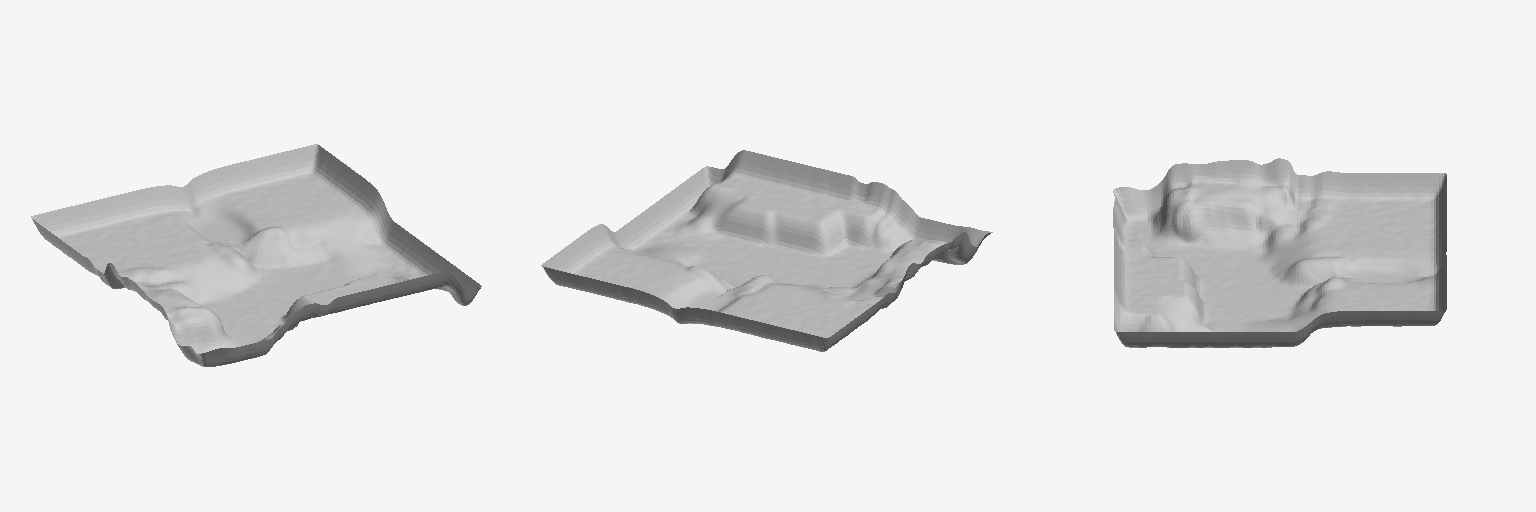
Rendered from forest.obj.
3 views of the same model, side by side, from view 1: azimuth 30°, elevation 25°; view 2: azimuth 150°, elevation 25°; view 3: azimuth 270°, elevation 25° (orthographic).
Visible parts, largest first — view 1: ForrestTerrain_Plane.003; view 2: ForrestTerrain_Plane.003; view 3: ForrestTerrain_Plane.003.
Part boxes in pixels (bbox=[...]): ForrestTerrain_Plane.003: bbox=[31, 144, 481, 366]; ForrestTerrain_Plane.003: bbox=[541, 150, 992, 351]; ForrestTerrain_Plane.003: bbox=[1113, 158, 1446, 347].
Bounding box in the file's own units: 99.07 × 18.08 × 98.97.